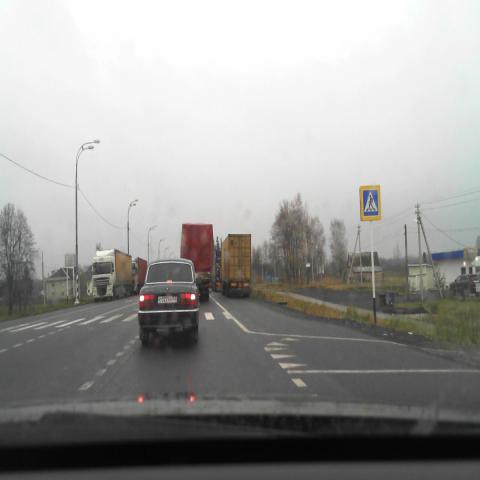5_19_1: (359, 185, 381, 221)
